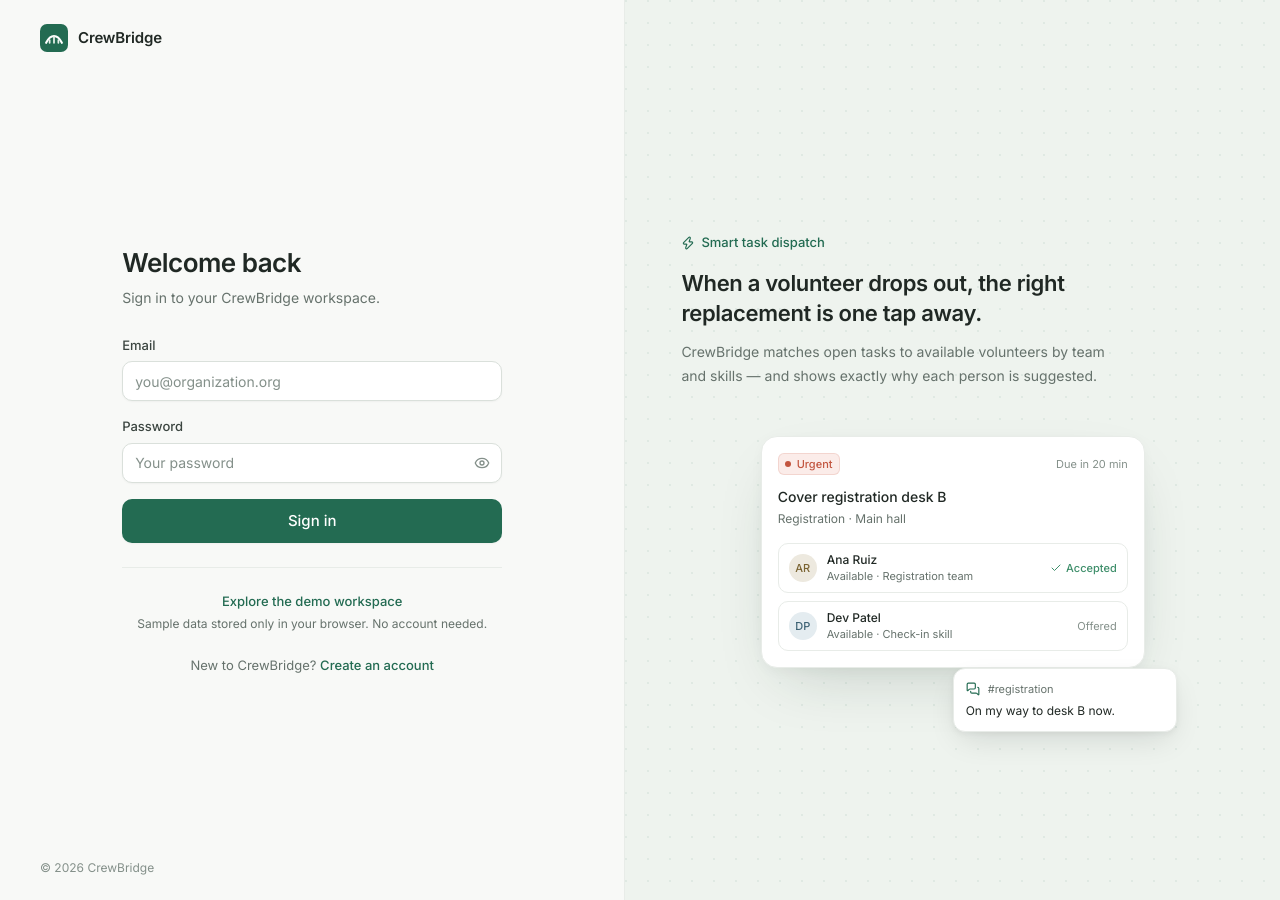
LoginPage › shows validation errors without calling the API
What coordinates should you click on to do the following:
click the button "Sign in"
I would click on:
 (312, 521)
Its box is top-left (122, 499), bottom-right (502, 543).
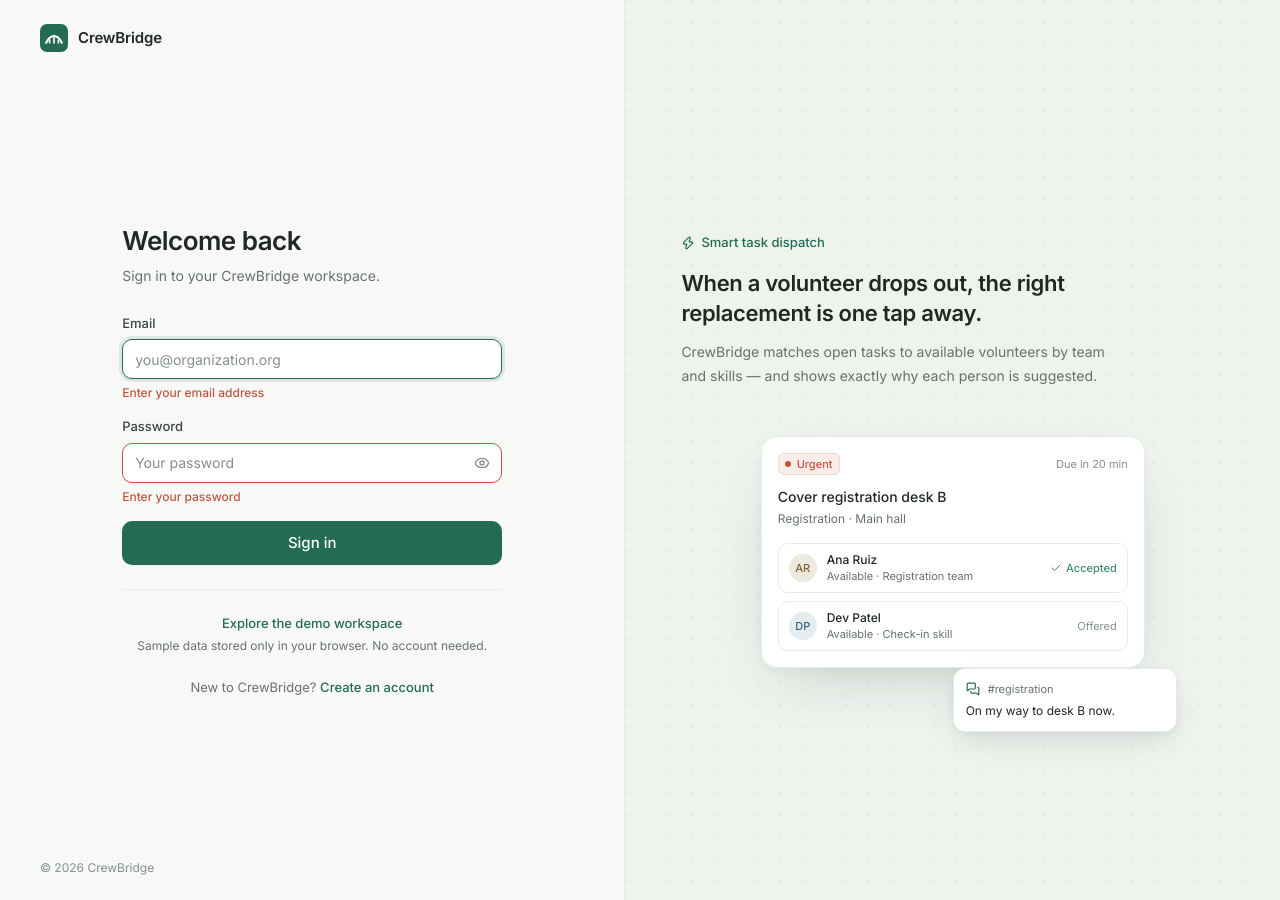
Expected: the text "Enter your email address" is shown, top-left (122, 385), bottom-right (264, 400)
Expected: the text "Enter your password" is shown, top-left (122, 489), bottom-right (241, 504)
